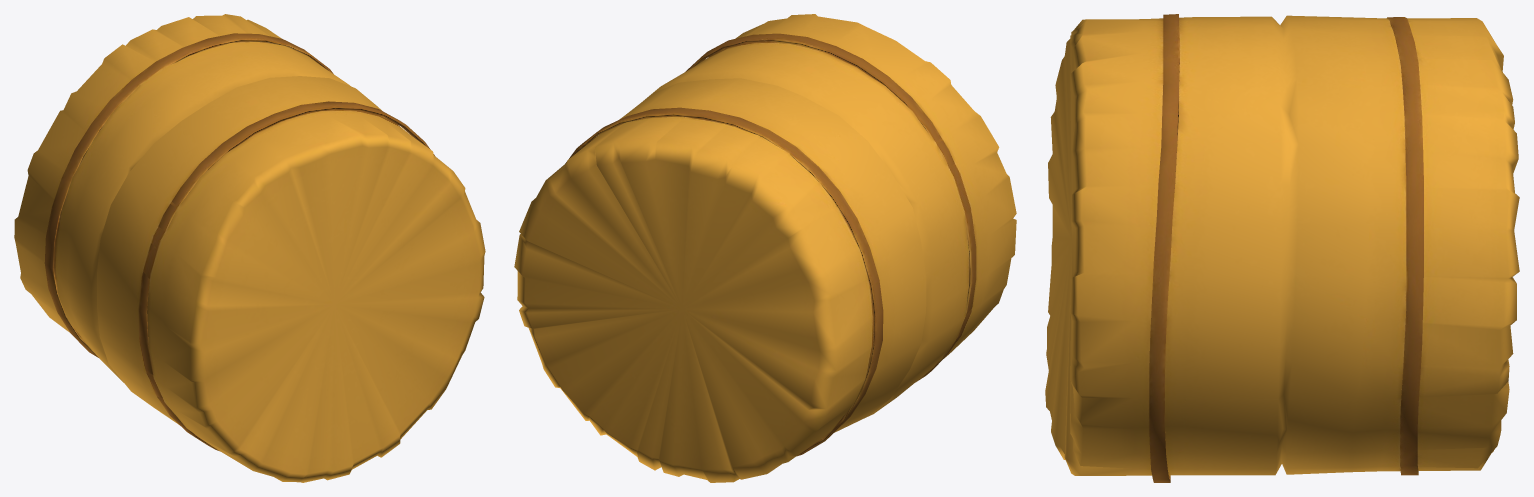
The picture shows the model from 3 angles, left to right: view 1: azimuth 30°, elevation 25°; view 2: azimuth 150°, elevation 25°; view 3: azimuth 270°, elevation 25°; orthographic projection. The views are drawn at different scales.
Parts seen in each view (by area): view 1: tripo_node_9545fdc9-e1be-48f3-af5c-254afb65464a; view 2: tripo_node_9545fdc9-e1be-48f3-af5c-254afb65464a; view 3: tripo_node_9545fdc9-e1be-48f3-af5c-254afb65464a.
Part boxes in pixels (x1,y1,x2,y2): tripo_node_9545fdc9-e1be-48f3-af5c-254afb65464a: (14, 14, 485, 482); tripo_node_9545fdc9-e1be-48f3-af5c-254afb65464a: (514, 14, 1016, 482); tripo_node_9545fdc9-e1be-48f3-af5c-254afb65464a: (1045, 14, 1519, 482).
Size of the model in its own units: 0.9629 by 0.9902 by 0.998.
Materials: 1 (1 with a texture image).
